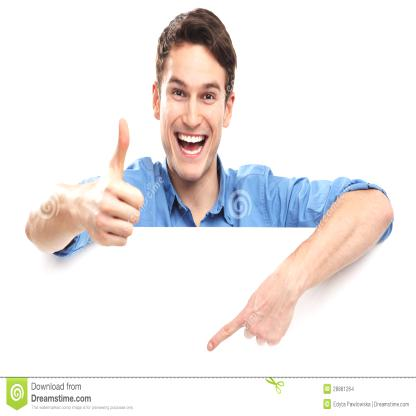Down: (202, 264, 298, 368)
